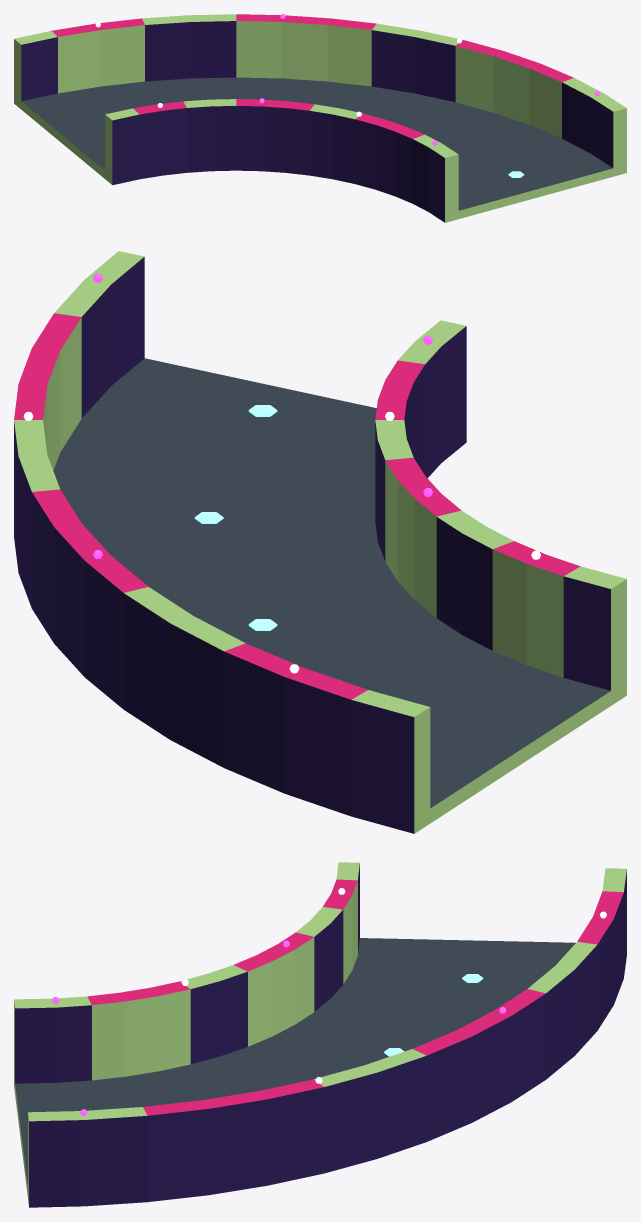
Rendered from Track_Curve90.fbx.
3 views of the same model, one above another, from view 1: azimuth 30°, elevation 25°; view 2: azimuth 150°, elevation 25°; view 3: azimuth 270°, elevation 25° (orthographic). The views are drawn at different scales.
Parts seen in each view (by area): view 1: Track_Curve90; view 2: Track_Curve90; view 3: Track_Curve90.
Boxes of the visible parts, box(x1,y1,x2,y2) form: Track_Curve90: box(14, 14, 626, 222); Track_Curve90: box(14, 251, 626, 833); Track_Curve90: box(14, 862, 626, 1207).
Size of the model in its own units: 19.94 by 3.32 by 19.94.
